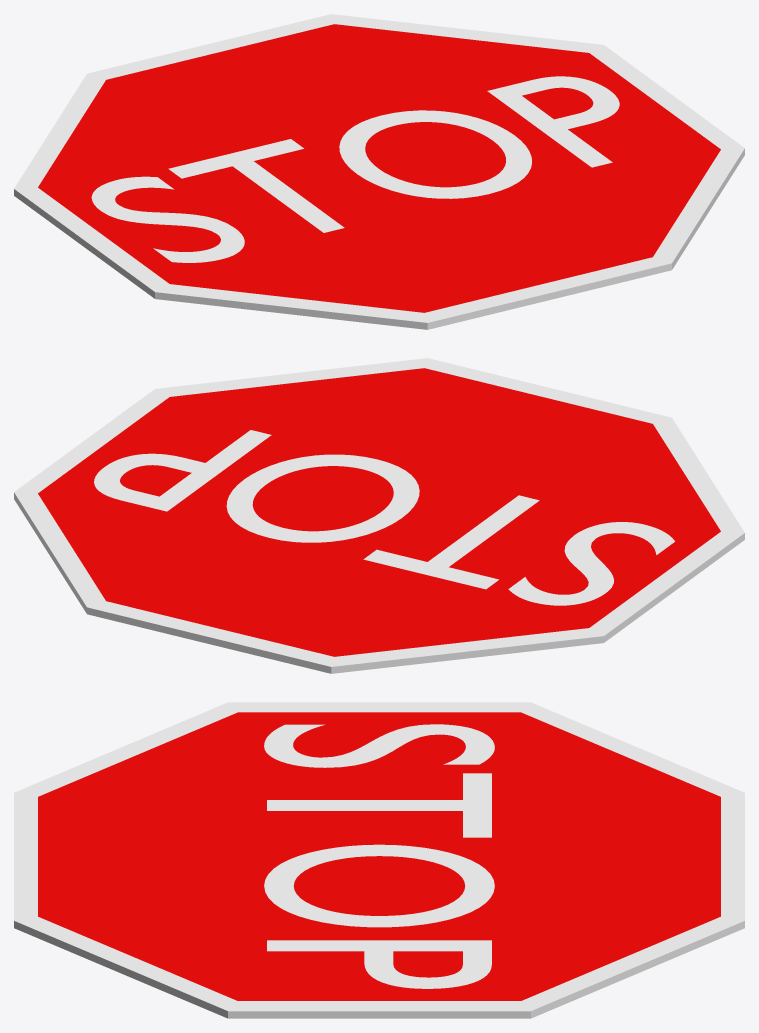
File: stopsign.fbx
The picture shows the model from 3 angles, top to bottom: view 1: azimuth 30°, elevation 25°; view 2: azimuth 150°, elevation 25°; view 3: azimuth 270°, elevation 25°; orthographic projection. The views are drawn at different scales.
Visible parts, largest first — view 1: Sign, Text; view 2: Sign, Text; view 3: Sign, Text.
Boxes of the visible parts, x1,y1,x2,y2 form: Sign: (14, 14, 744, 329); Text: (102, 81, 619, 262); Sign: (14, 358, 744, 673); Text: (108, 430, 674, 605); Sign: (14, 702, 744, 1018); Text: (264, 724, 490, 988).
Bounding box in the file's own units: 222 × 2.55 × 222.
